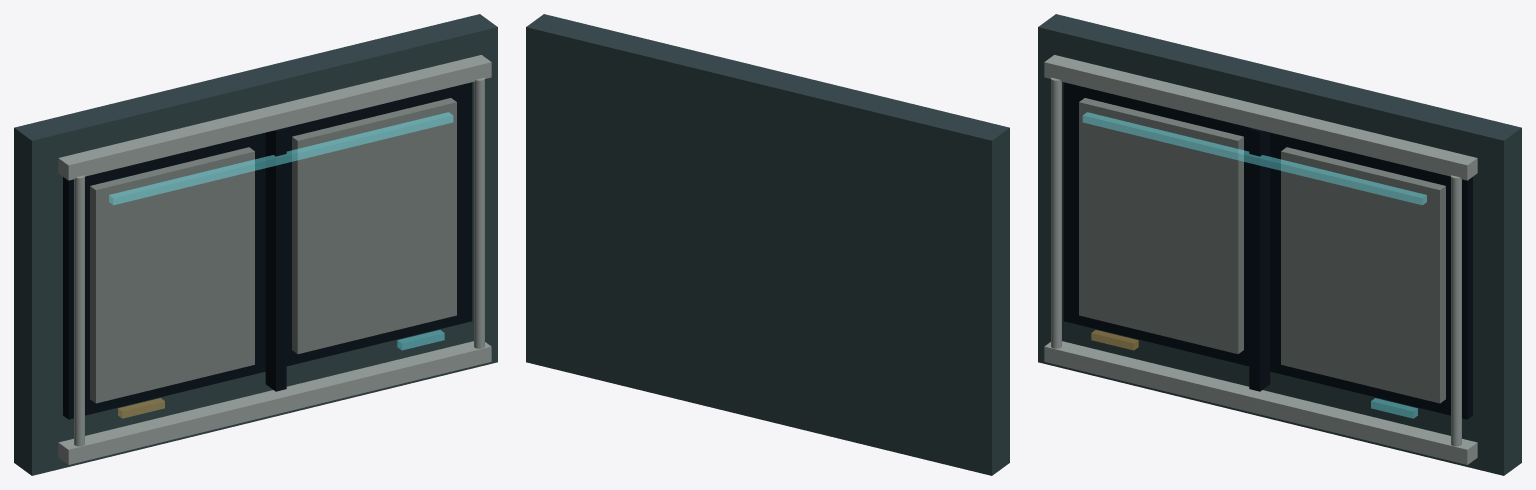
Rendered from hp_room_wall_panel_maintenance.glb.
3 views of the same model, side by side, from view 1: azimuth 30°, elevation 25°; view 2: azimuth 150°, elevation 25°; view 3: azimuth 330°, elevation 25° (orthographic).
Parts seen in each view (by area): view 1: maintenance_wall_structural_back, maintenance_wall_status_strip; view 2: maintenance_wall_structural_back; view 3: maintenance_wall_structural_back, maintenance_wall_status_strip.
Part boxes in pixels (x1,y1,x2,y2): maintenance_wall_structural_back: [14, 14, 497, 475]; maintenance_wall_status_strip: [109, 112, 453, 418]; maintenance_wall_structural_back: [526, 14, 1009, 475]; maintenance_wall_structural_back: [1038, 14, 1521, 475]; maintenance_wall_status_strip: [1082, 112, 1426, 418].
Size of the model in its own units: 2.4 by 1.65 by 0.326.
2 materials, 2 textured.
